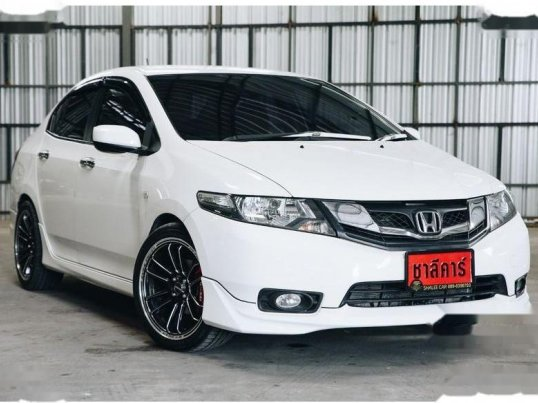sedan: (7, 61, 534, 352)
